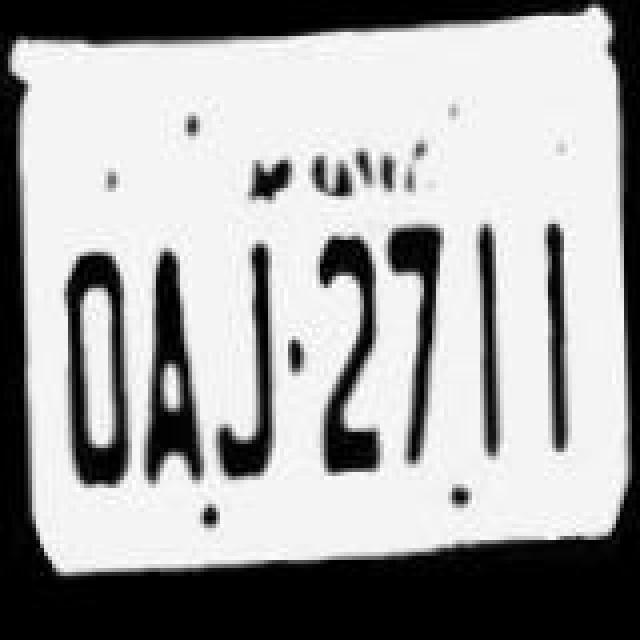1: (526, 210, 586, 474), (462, 220, 522, 468)
2: (300, 228, 388, 484)
7: (376, 224, 456, 468)
A: (134, 234, 210, 486)
J: (200, 240, 288, 488)
O: (58, 230, 142, 486)
